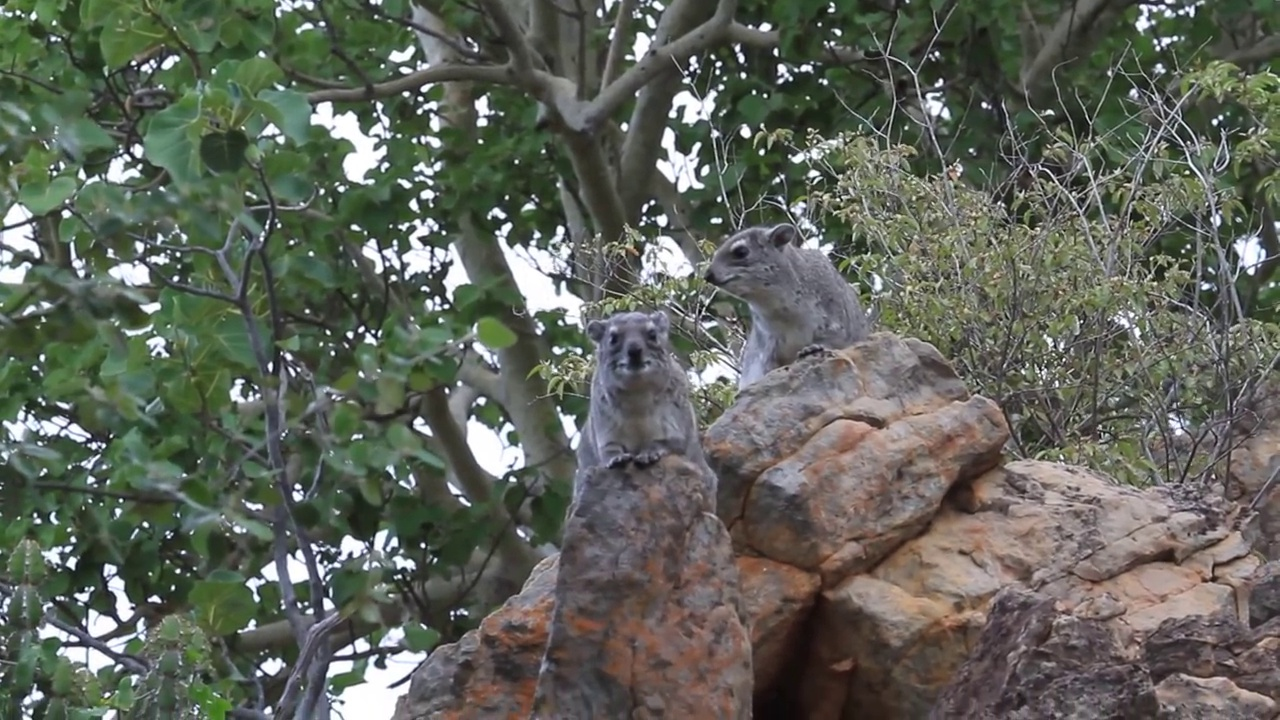Rock Hyrex: (702, 223, 865, 393), (580, 312, 699, 482)
